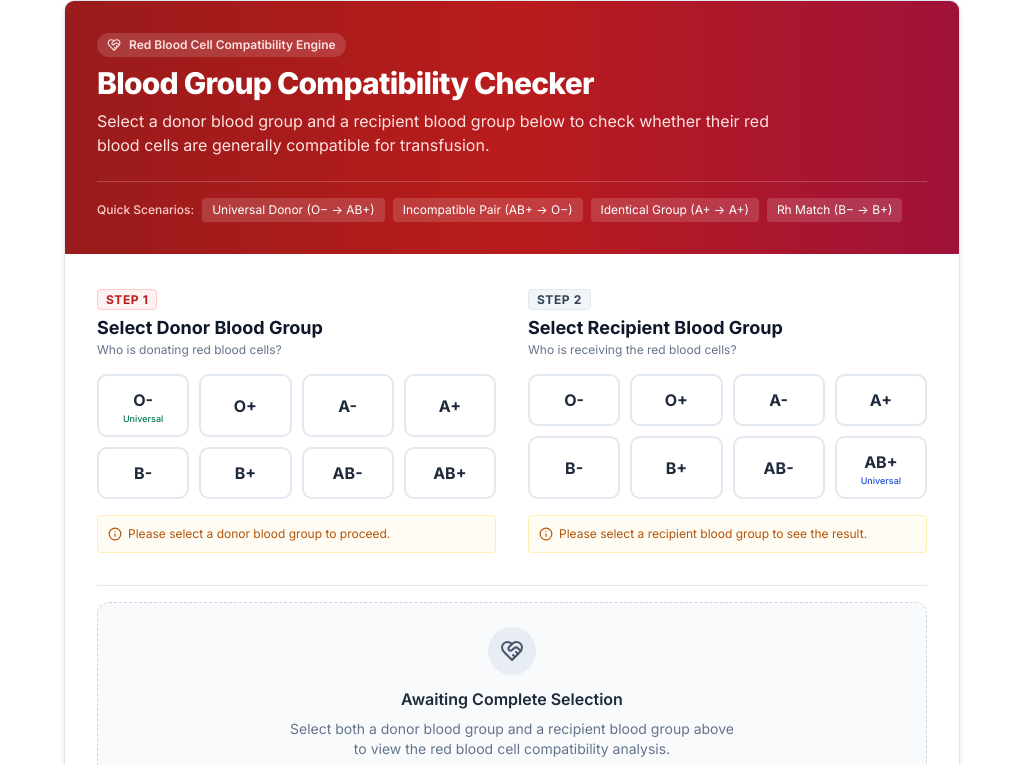
Test: CompatibilityChecker Component › resets selections when Reset button is clicked
Click the radio button labelled "O- Universal": (143, 406) [97,374,189,437]
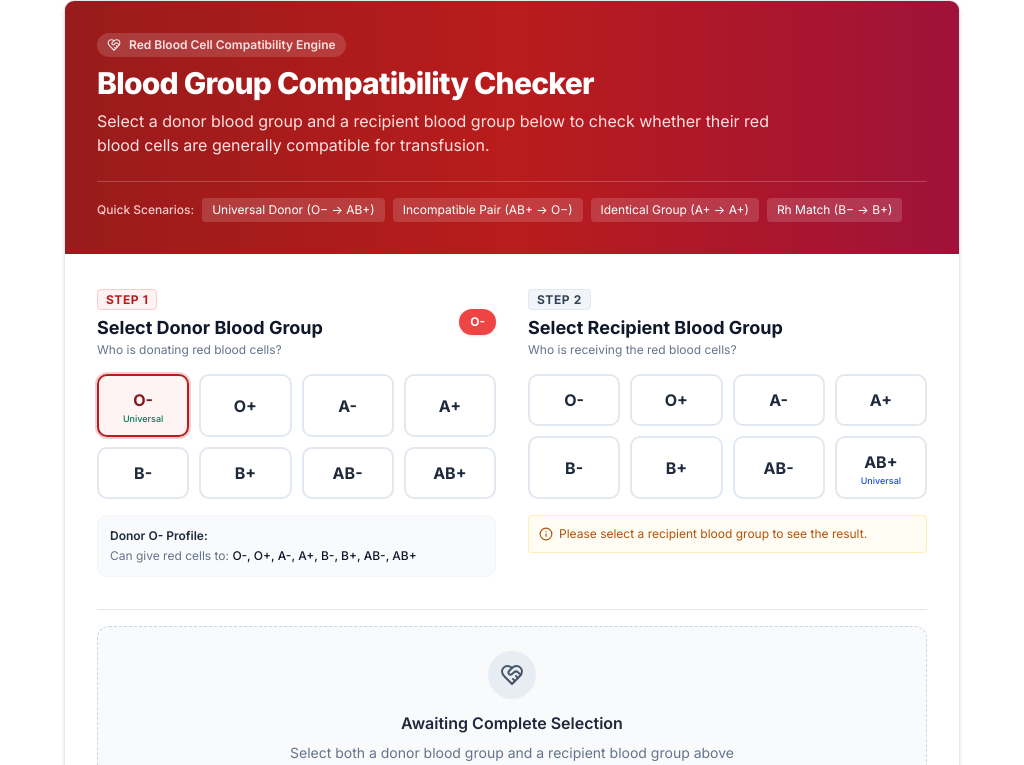
Click the radio button labelled "O-": (574, 400) [528,374,620,426]
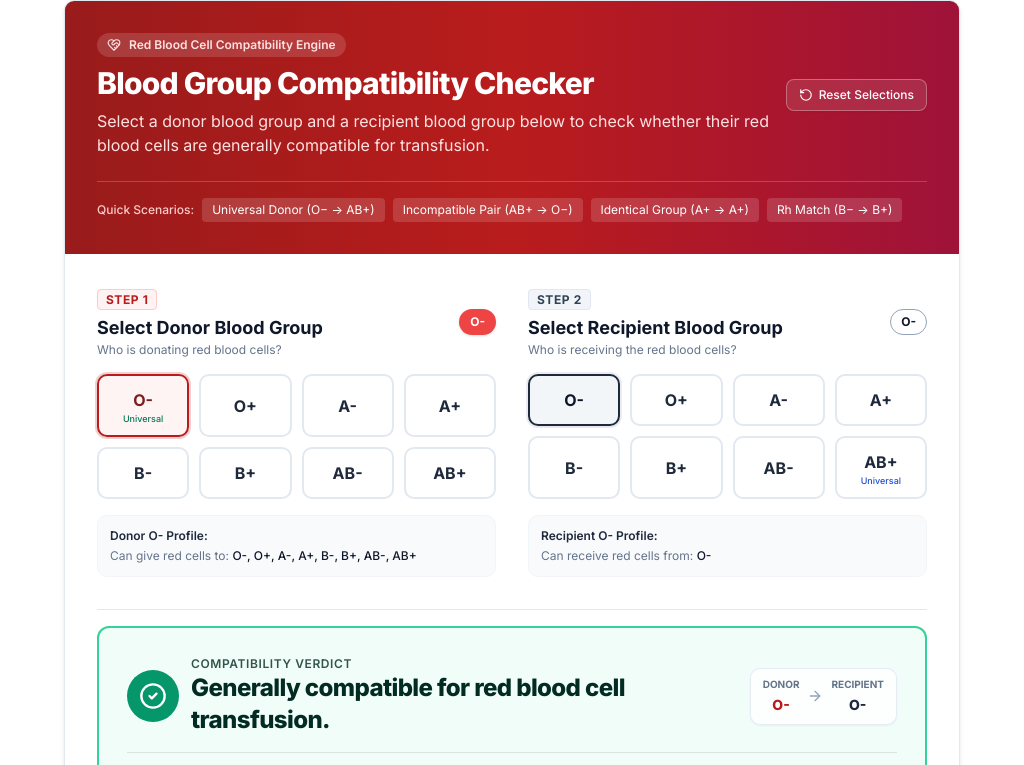
Check: the heading "Generally compatible for red blood cell transfusion." is shown, box [191,673,625,734]
Check: the button with aria-label "Reset blood group selections" is shown
Click the button with aria-label "Reset blood group selections": (856, 95) [786,79,927,111]
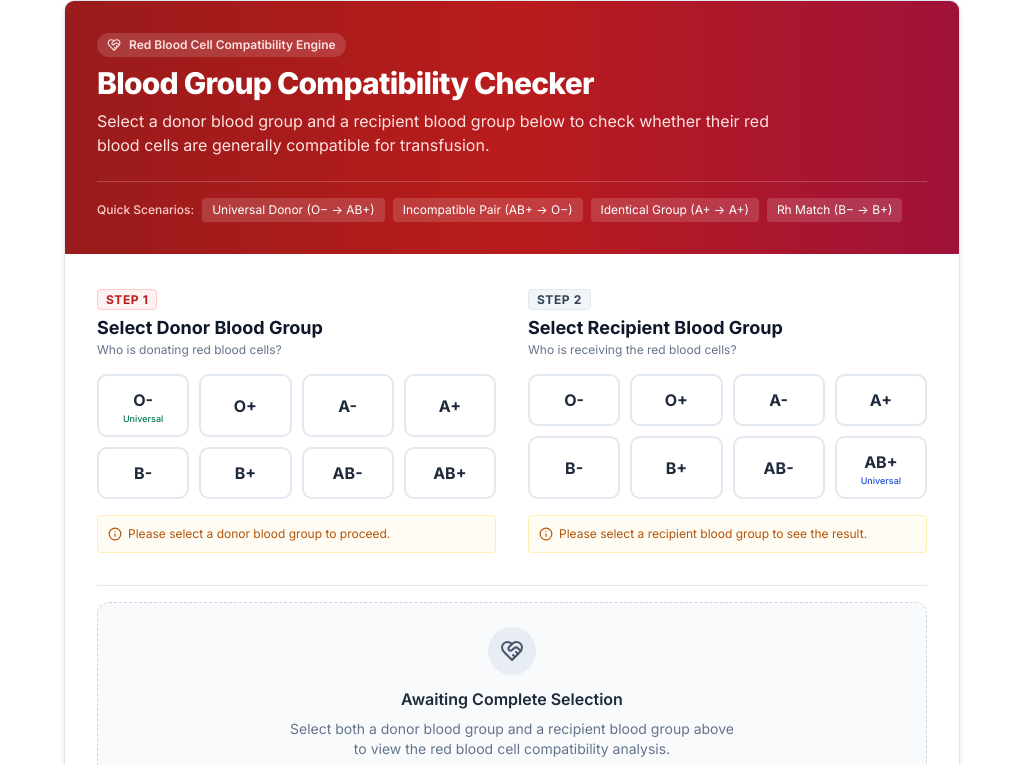
Check: the heading "Awaiting Complete Selection" is shown, box [401,689,623,709]
